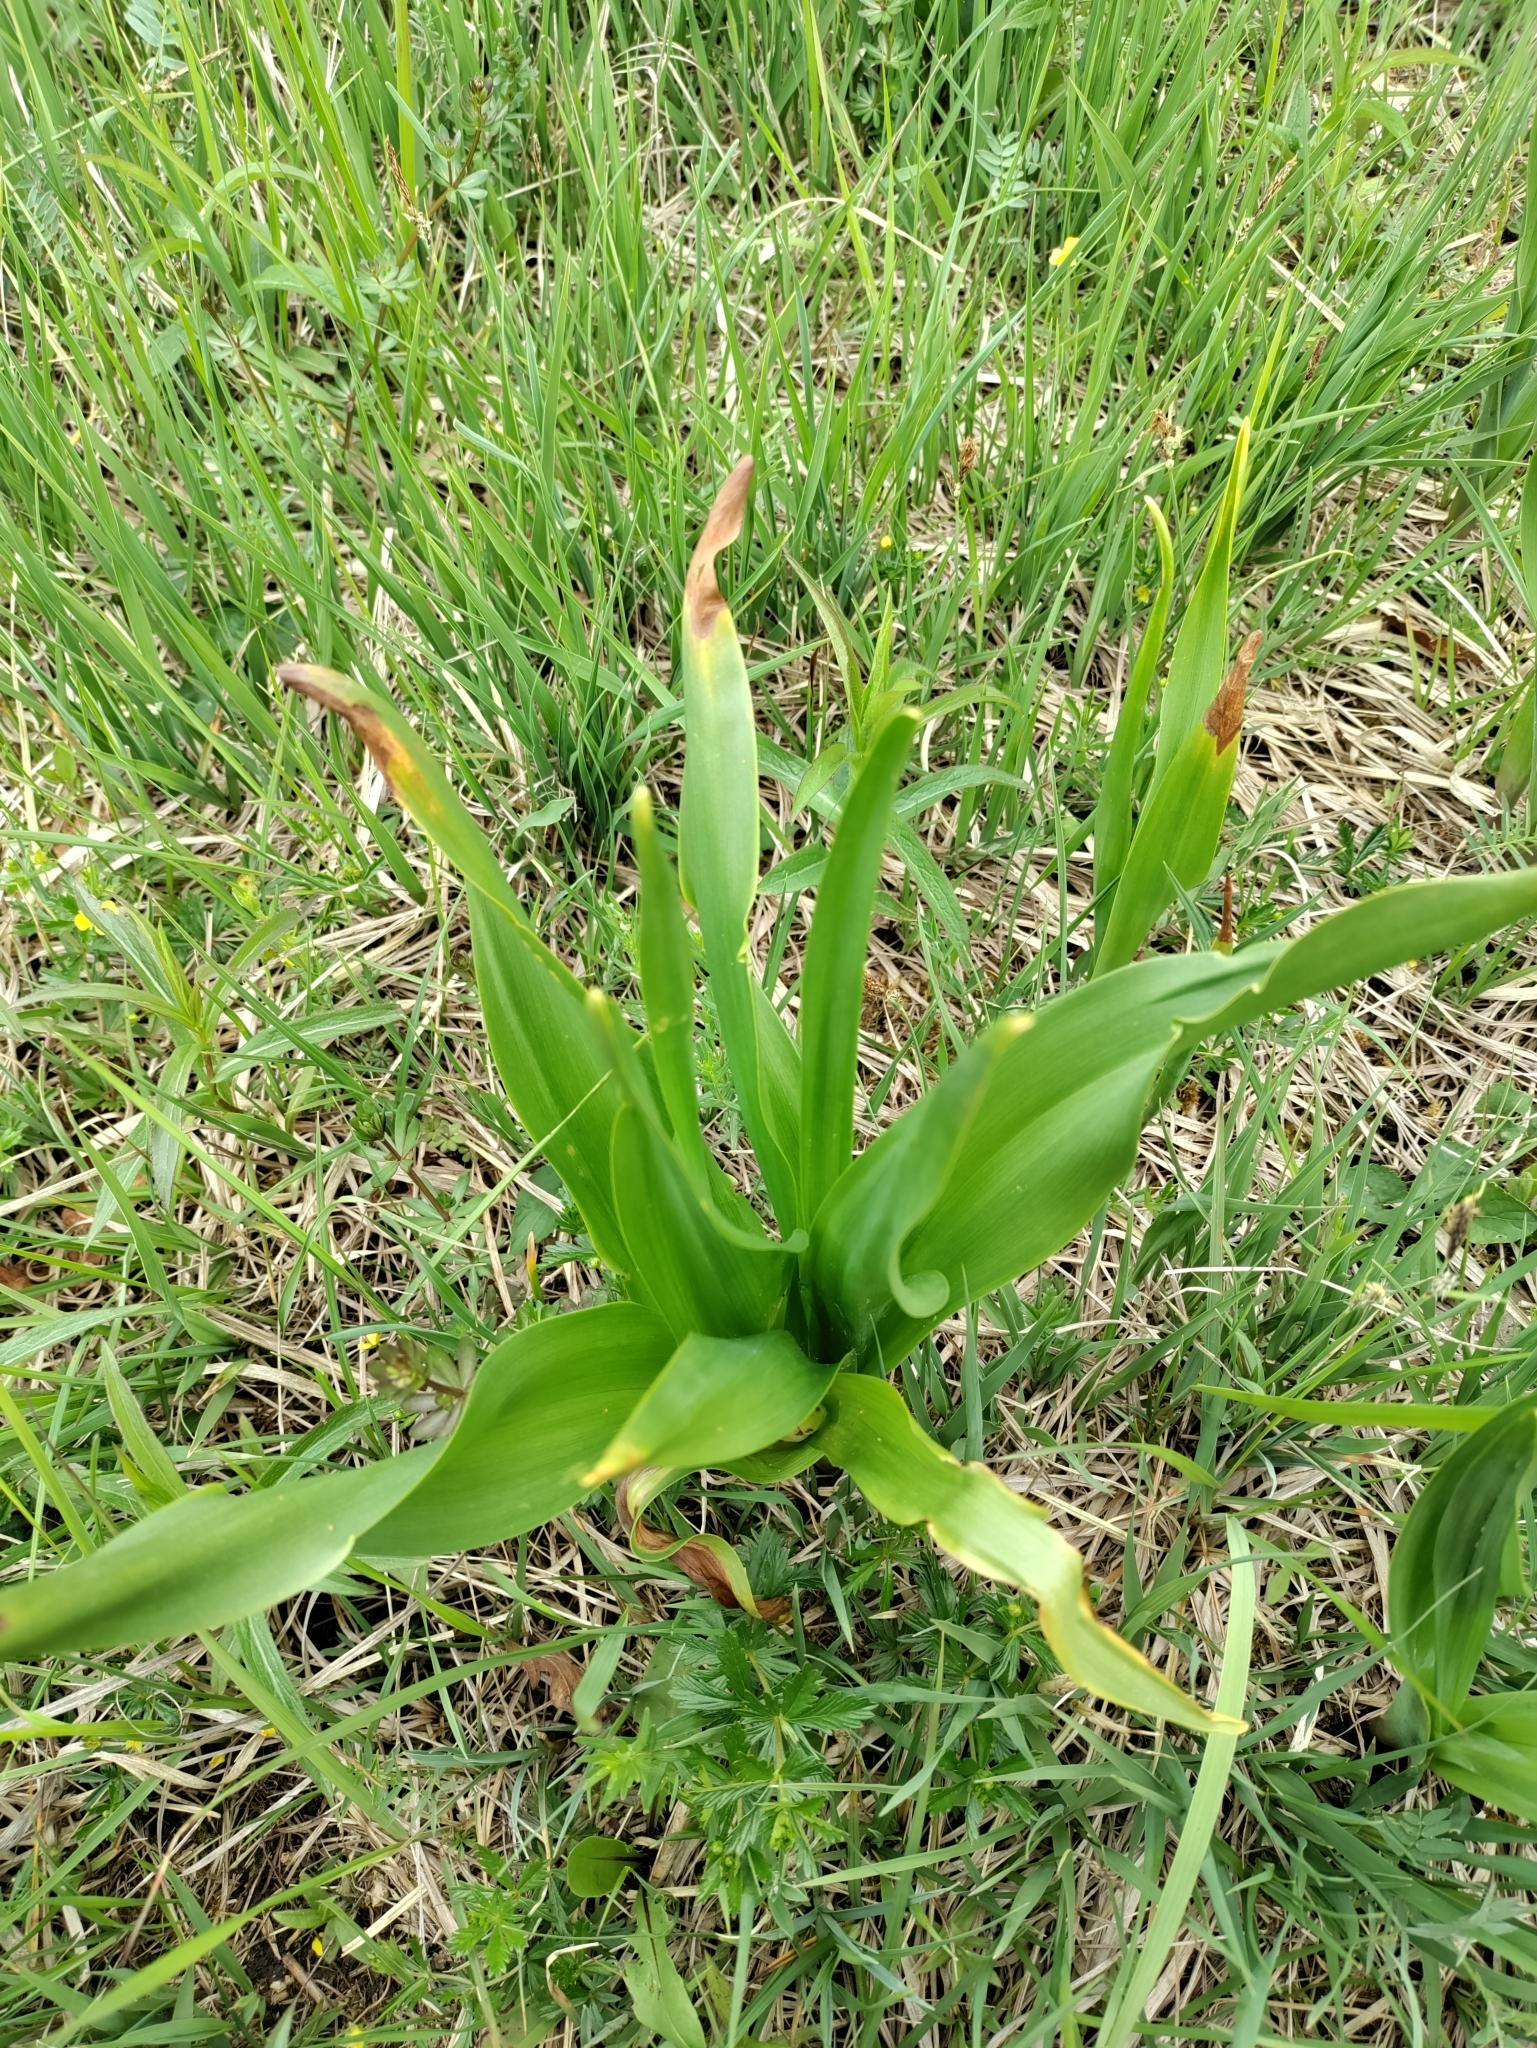Colchicum autumnale L: (184, 542, 1464, 1774)
